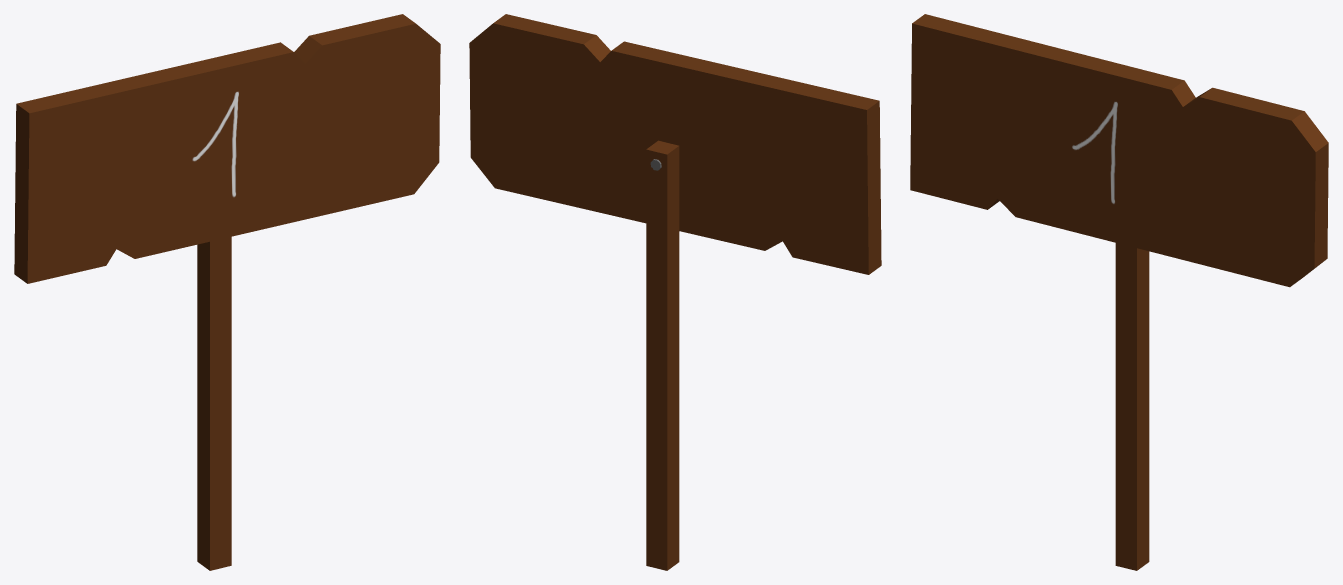
File: sign3_1.glb
3 renders of one model, left to right at view 1: azimuth 30°, elevation 25°; view 2: azimuth 150°, elevation 25°; view 3: azimuth 330°, elevation 25°, orthographic. The views are drawn at different scales.
Visible parts, largest first — view 1: Sign 3; view 2: Sign 3; view 3: Sign 3.
Boxes of the visible parts, x1=… form: Sign 3: x1=14, y1=14, x2=440, y2=570; Sign 3: x1=469, y1=14, x2=881, y2=570; Sign 3: x1=910, y1=14, x2=1328, y2=570.
Size of the model in its own units: 2.01 by 2.39 by 0.2277.
2 materials, 1 textured.
